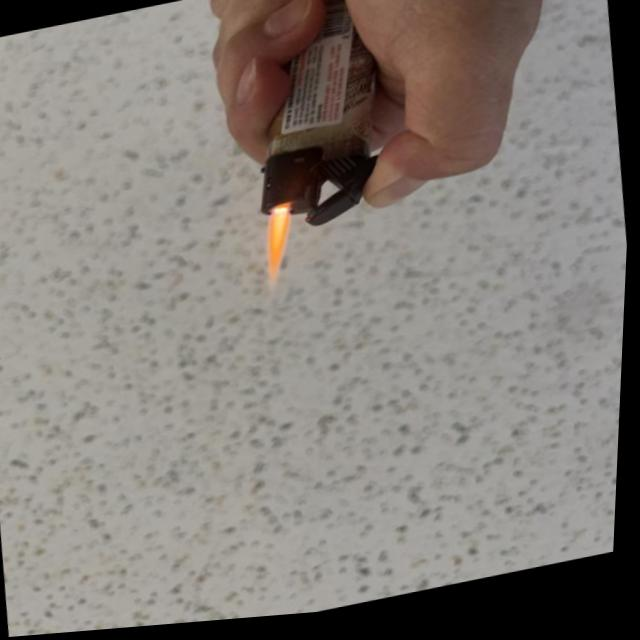Fire: (261, 213, 301, 282)
